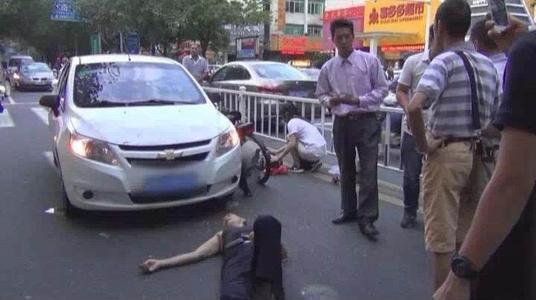Fall-Detected: (135, 201, 301, 297)
